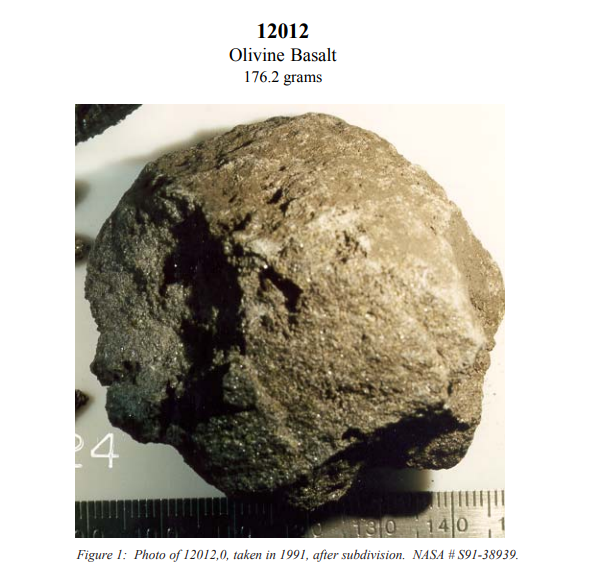Basalt: (84, 109, 497, 507), (154, 155, 464, 486)
